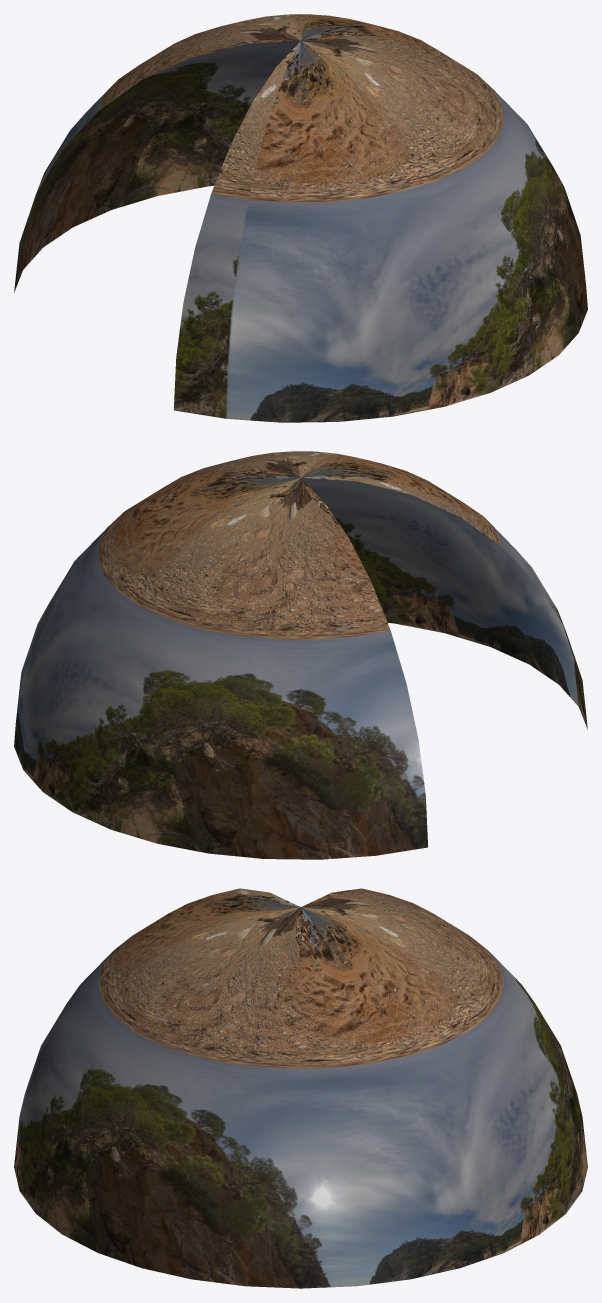
File: env.FBX
3 views of the same model, one above another, from view 1: azimuth 30°, elevation 25°; view 2: azimuth 150°, elevation 25°; view 3: azimuth 270°, elevation 25° (orthographic).
Parts seen in each view (by area): view 1: Sphere001; view 2: Sphere001; view 3: Sphere001.
Part boxes in pixels (x1,y1,x2,y2): Sphere001: (14, 14, 587, 422); Sphere001: (14, 451, 587, 859); Sphere001: (14, 888, 587, 1288).
Bounding box in the file's own units: 3510 × 1917 × 3833.
Materials: 1 (1 with a texture image).
